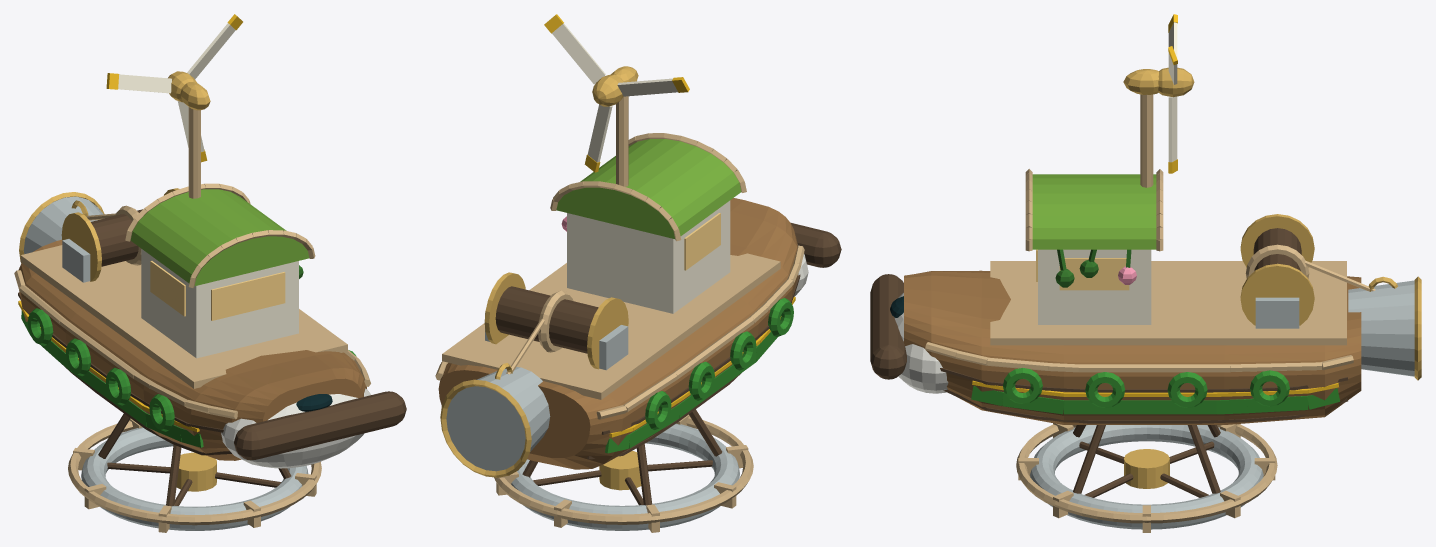
The model's file is tug.obj.
The picture shows the model from 3 angles, left to right: view 1: azimuth 30°, elevation 25°; view 2: azimuth 150°, elevation 25°; view 3: azimuth 270°, elevation 25°; orthographic projection. The views are drawn at different scales.
Parts seen in each view (by area): view 1: tug; view 2: tug; view 3: tug.
Part boxes in pixels (x1=…): tug: x1=14, y1=14, x2=406, y2=532; tug: x1=435, y1=14, x2=841, y2=532; tug: x1=870, y1=14, x2=1421, y2=532.
Size of the model in its own units: 37.94 by 74.4 by 80.
1 material, 1 textured.
